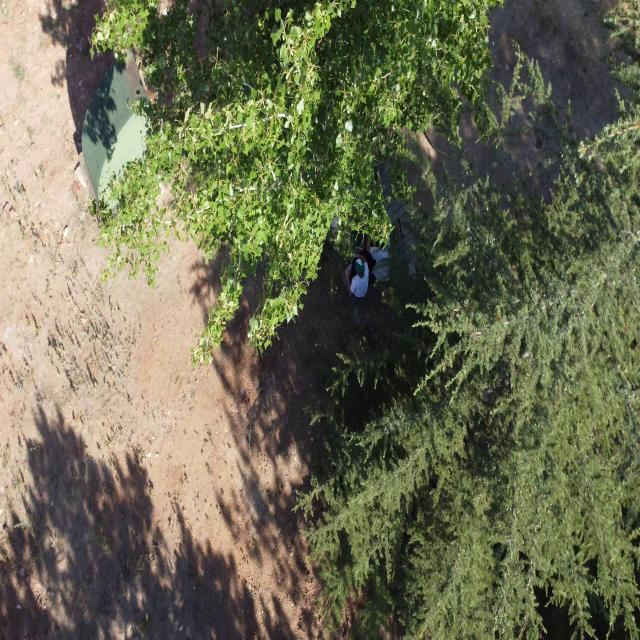vehicle: (366, 230, 392, 284), (346, 254, 369, 297)
